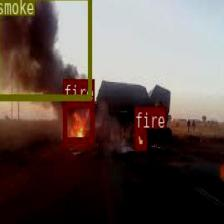fire: (63, 101, 94, 143), (134, 128, 146, 149)
smoke: (0, 0, 91, 99)
